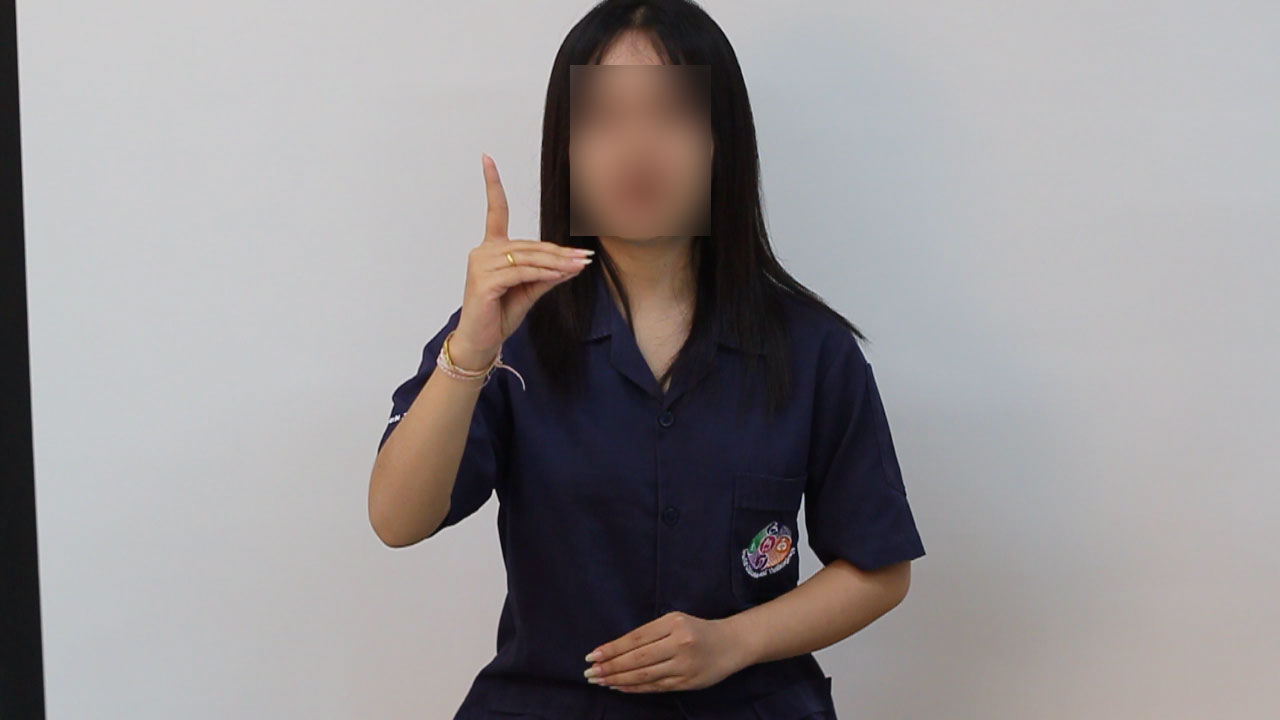dor: (440, 147, 602, 353)
